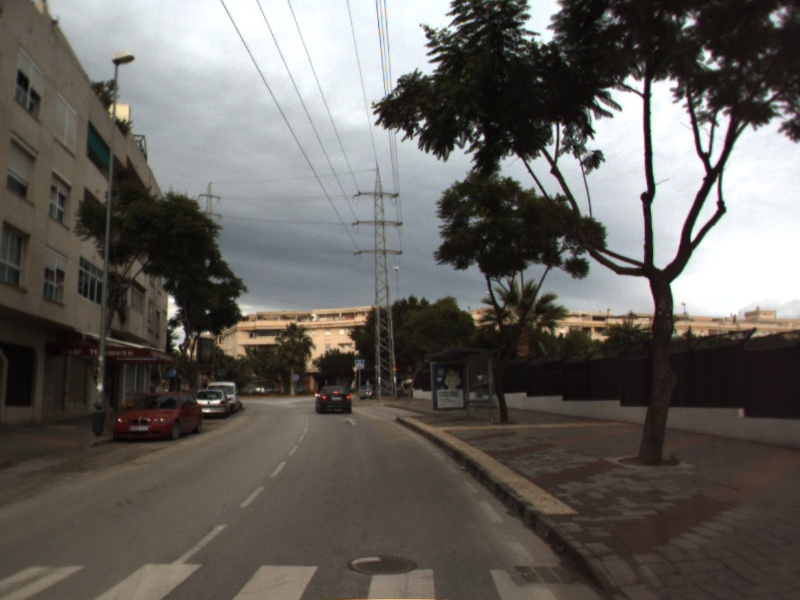STRAIGHT: (341, 416, 361, 427)
